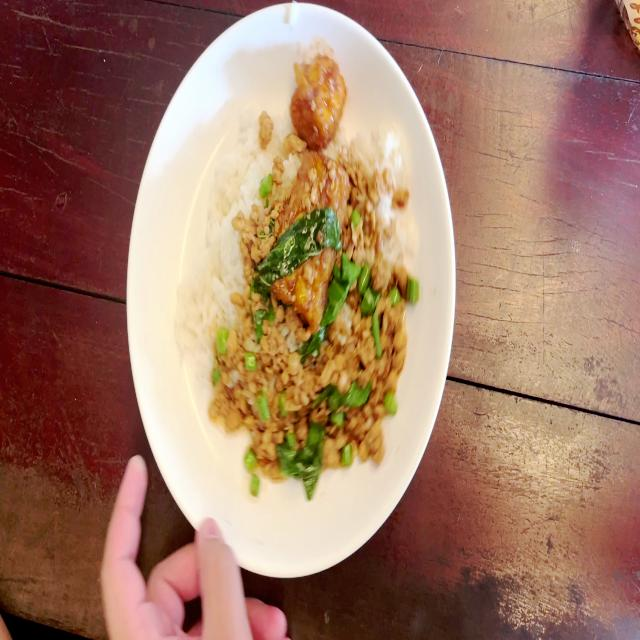fried_tofo: (280, 148, 334, 319), (296, 63, 342, 140)
minced_pork: (338, 156, 403, 470), (212, 326, 341, 478), (242, 164, 281, 318)
rice: (182, 151, 244, 357), (372, 111, 406, 176)
stir_fried_basil: (179, 60, 418, 484)
